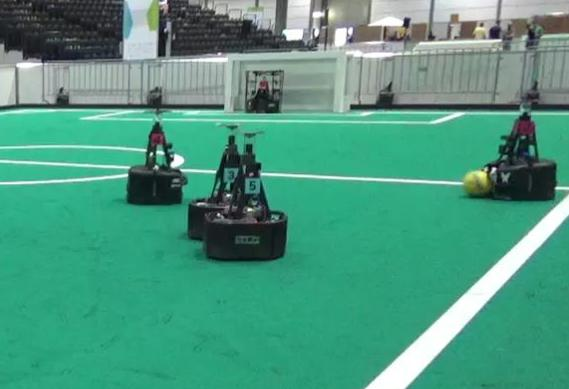robot: (206, 119, 290, 263), (489, 88, 559, 204), (123, 109, 189, 206)
